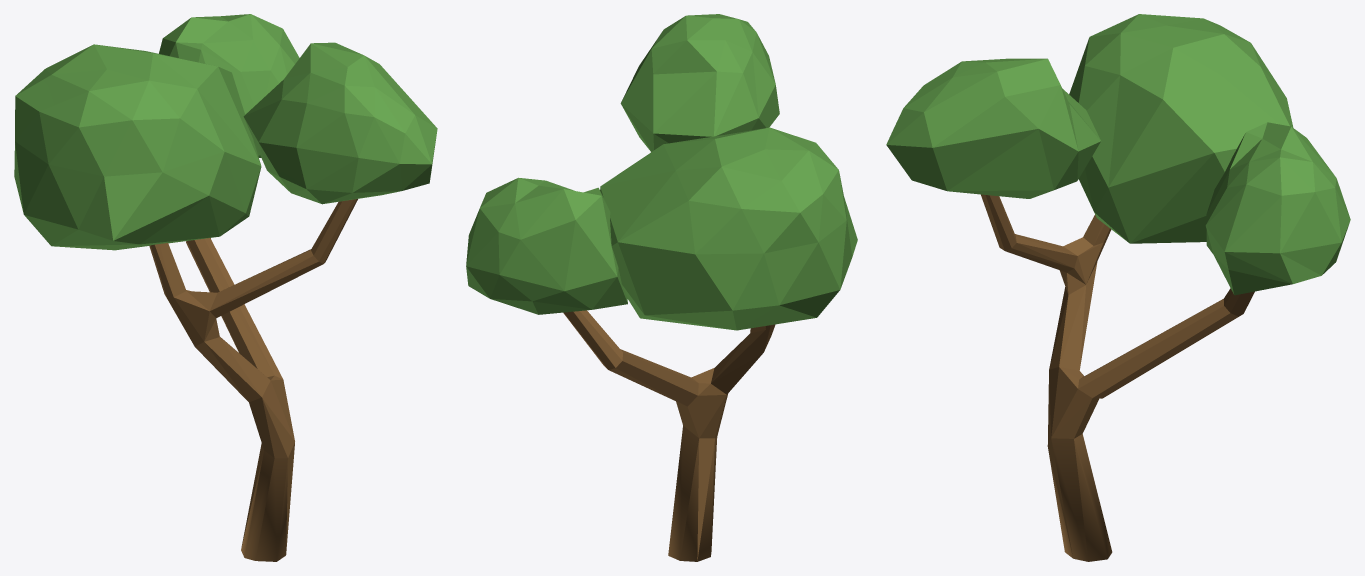
Rendered from Tree2.fbx.
3 renders of one model, left to right at view 1: azimuth 30°, elevation 25°; view 2: azimuth 150°, elevation 25°; view 3: azimuth 270°, elevation 25°, orthographic. The views are drawn at different scales.
Parts seen in each view (by area): view 1: Cube; view 2: Cube; view 3: Cube.
Part boxes in pixels (bbox=[...]): Cube: bbox=[14, 14, 437, 561]; Cube: bbox=[466, 14, 857, 561]; Cube: bbox=[886, 14, 1350, 561].
Size of the model in its own units: 6.83 by 10.1 by 8.41.
